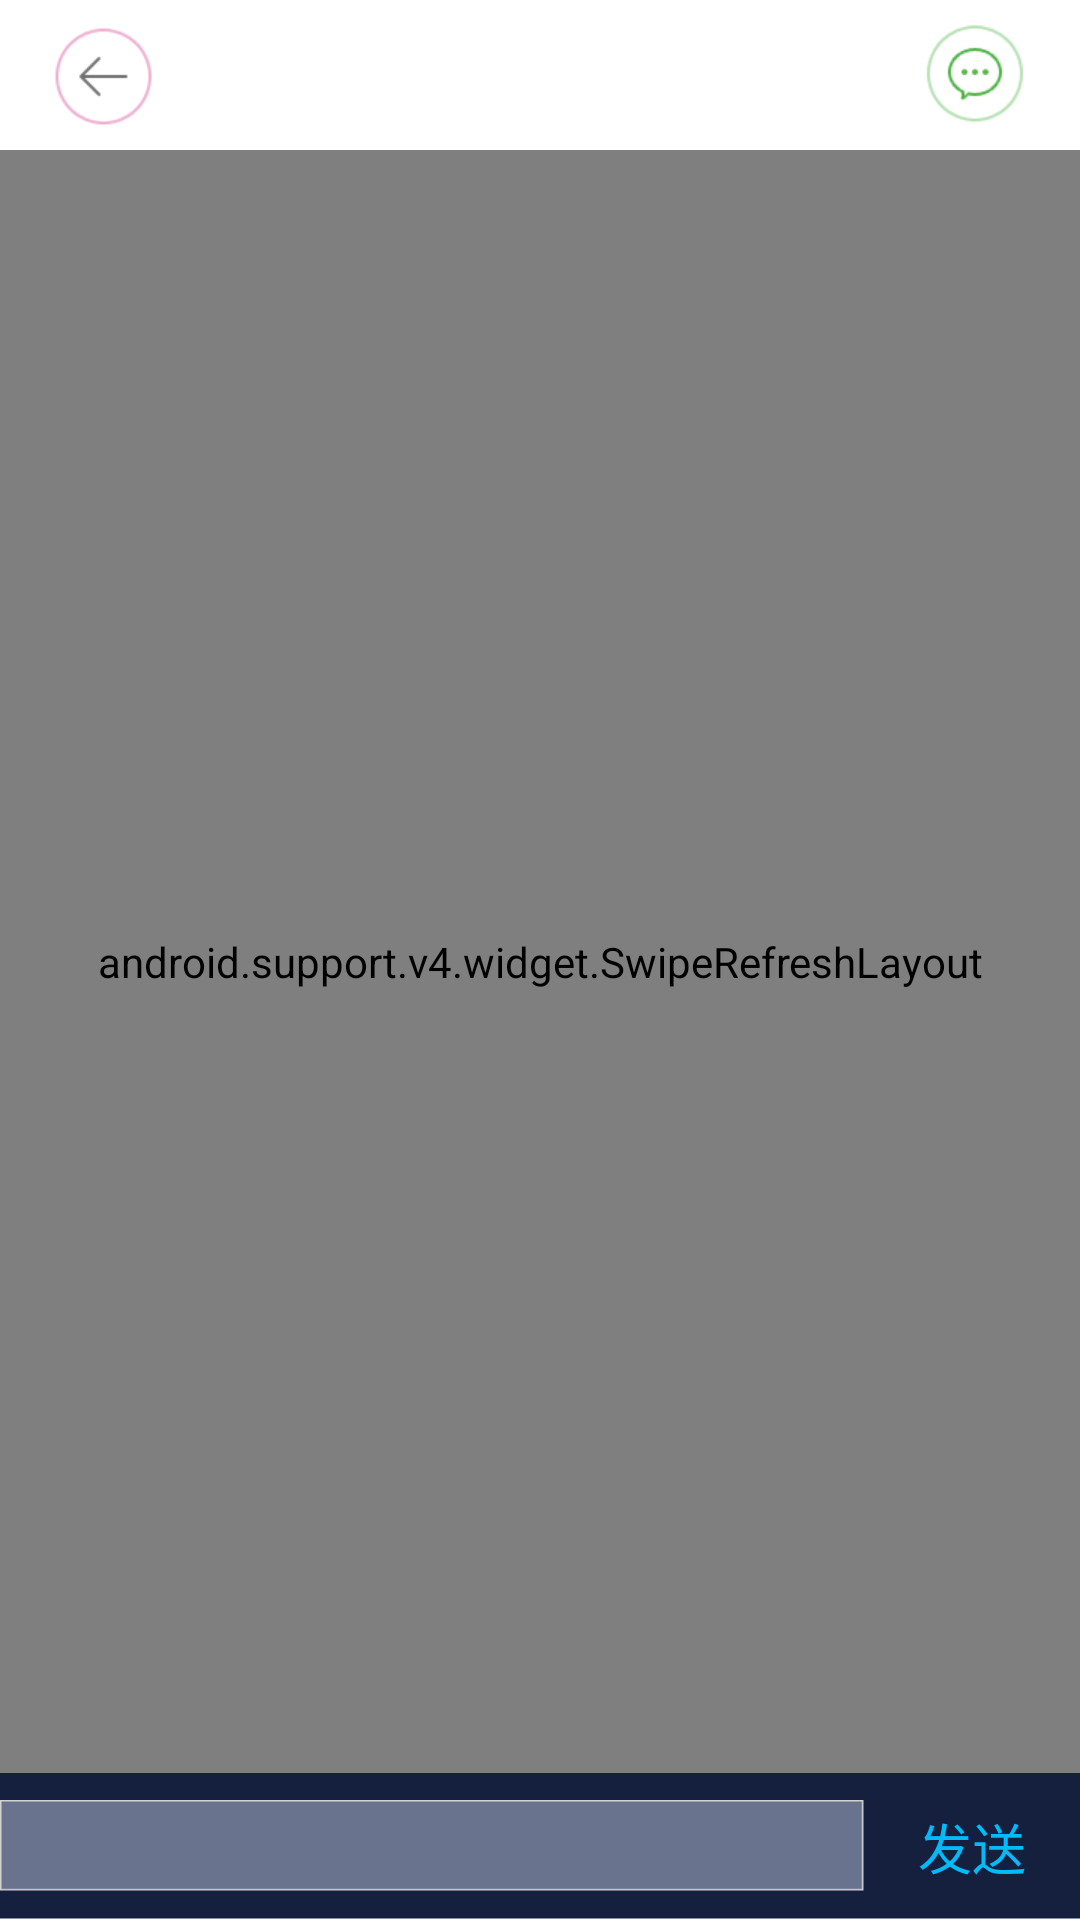

Icon bounding boxes for this 1080 x 1920 phone screenshot, format bbox=(x1, y1, x2, y2):
back: bbox=(55, 28, 152, 125)
